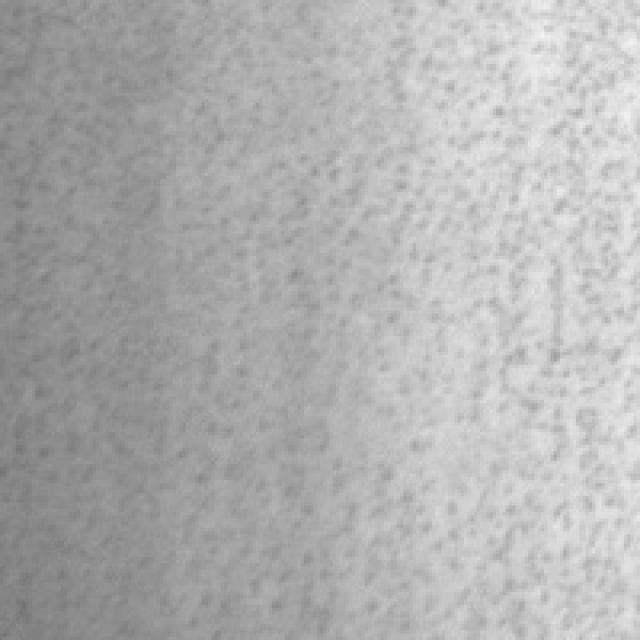pitted_surface: (16, 0, 630, 624)
